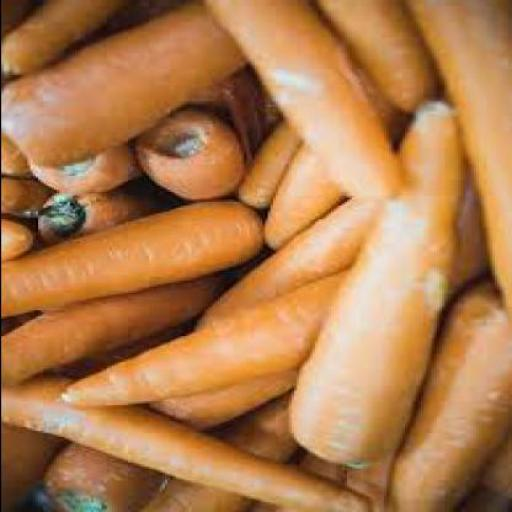biodegradable: (1, 1, 511, 511), (283, 105, 467, 469), (2, 373, 370, 511), (58, 266, 346, 410), (0, 6, 249, 170), (198, 2, 396, 201), (398, 2, 510, 327), (2, 199, 258, 319), (375, 282, 507, 511), (258, 57, 396, 253), (187, 201, 369, 334), (1, 277, 217, 389), (137, 389, 299, 511), (309, 2, 438, 112), (129, 109, 240, 204), (143, 368, 295, 432), (1, 2, 121, 79), (33, 443, 161, 511), (30, 192, 148, 247), (232, 125, 301, 213), (446, 176, 491, 309), (450, 418, 511, 511), (21, 142, 129, 194), (245, 454, 338, 511), (1, 428, 57, 511), (338, 463, 392, 511), (0, 178, 48, 217), (1, 129, 27, 181), (0, 220, 30, 265)
